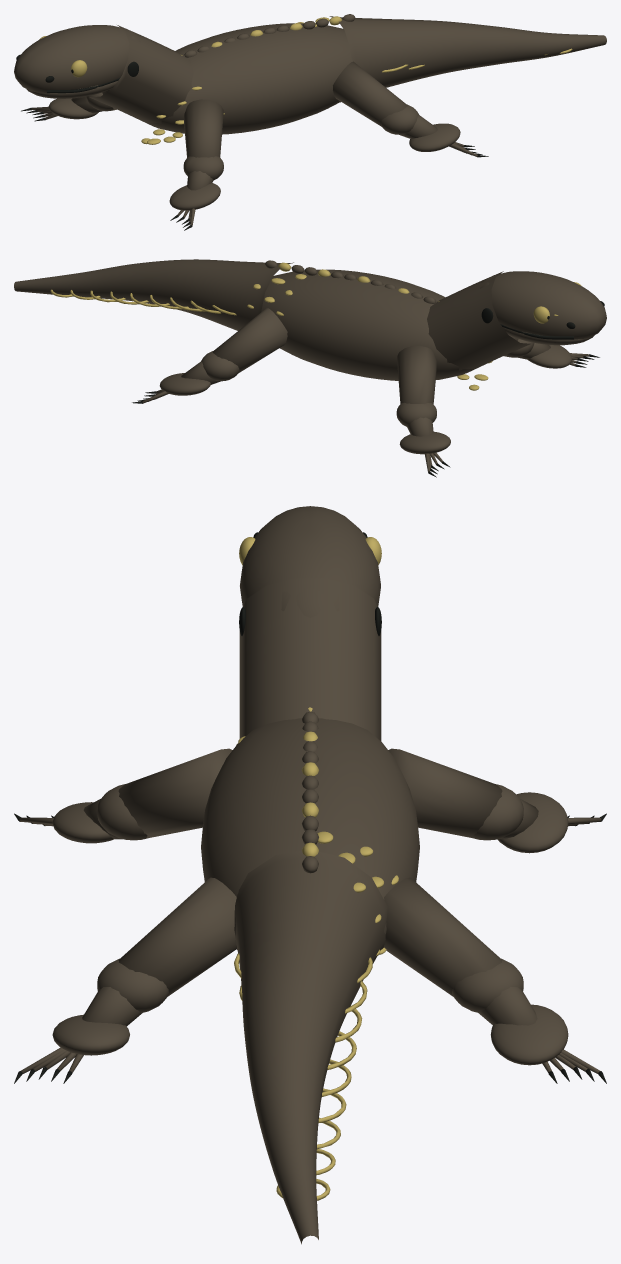
The model's file is clouded-monitor-v1.glb.
3 renders of one model, top to bottom at view 1: azimuth 30°, elevation 25°; view 2: azimuth 150°, elevation 25°; view 3: azimuth 270°, elevation 25°, orthographic. The views are drawn at different scales.
Parts seen in each view (by area): view 1: torso/long-torso, tail/continuous-tapered-tail, head/short-head, neck/raised-neck, splayed-limb-system/upper-limb-4, splayed-limb-system/upper-limb-2, splayed-limb-system/palm-2, splayed-limb-system/palm-4, splayed-limb-system/elbow-knee-4, splayed-limb-system/elbow-knee-2, splayed-limb-system/palm-1, head/lower-jaw (+2 smaller); view 2: torso/long-torso, tail/continuous-tapered-tail, head/short-head, neck/raised-neck, splayed-limb-system/upper-limb-3, splayed-limb-system/upper-limb-1, splayed-limb-system/palm-1, splayed-limb-system/palm-3, splayed-limb-system/elbow-knee-3, splayed-limb-system/elbow-knee-1, splayed-limb-system/palm-2, head/lower-jaw (+2 smaller); view 3: tail/continuous-tapered-tail, torso/long-torso, neck/raised-neck, head/short-head, splayed-limb-system/upper-limb-4, splayed-limb-system/upper-limb-3, splayed-limb-system/upper-limb-1, splayed-limb-system/upper-limb-2, splayed-limb-system/palm-3, splayed-limb-system/palm-1, splayed-limb-system/palm-4, splayed-limb-system/elbow-knee-3 (+6 smaller).
Part boxes in pixels (x1,y1,x2,y2): torso/long-torso: (147, 23, 352, 134); tail/continuous-tapered-tail: (329, 16, 606, 102); head/short-head: (14, 25, 140, 92); neck/raised-neck: (89, 25, 193, 126); splayed-limb-system/upper-limb-4: (333, 61, 407, 126); splayed-limb-system/upper-limb-2: (184, 99, 223, 157); splayed-limb-system/palm-2: (169, 183, 220, 210); splayed-limb-system/palm-4: (409, 123, 460, 151); splayed-limb-system/elbow-knee-4: (381, 104, 418, 134); splayed-limb-system/elbow-knee-2: (183, 156, 223, 180); splayed-limb-system/palm-1: (48, 98, 98, 119); head/lower-jaw: (26, 81, 117, 98); torso/long-torso: (261, 269, 473, 380); tail/continuous-tapered-tail: (14, 259, 293, 330); head/short-head: (480, 271, 606, 339); neck/raised-neck: (427, 271, 530, 373); splayed-limb-system/upper-limb-3: (213, 308, 287, 372); splayed-limb-system/upper-limb-1: (397, 346, 436, 404); splayed-limb-system/palm-1: (399, 431, 450, 454); splayed-limb-system/palm-3: (159, 373, 210, 395); splayed-limb-system/elbow-knee-3: (201, 351, 239, 381); splayed-limb-system/elbow-knee-1: (396, 402, 436, 426); splayed-limb-system/palm-2: (528, 345, 571, 368); head/lower-jaw: (503, 327, 594, 345); tail/continuous-tapered-tail: (235, 851, 387, 1244); torso/long-torso: (201, 718, 419, 955); neck/raised-neck: (239, 578, 381, 741); head/short-head: (240, 506, 380, 617); splayed-limb-system/upper-limb-4: (118, 877, 236, 996); splayed-limb-system/upper-limb-3: (384, 877, 502, 996); splayed-limb-system/upper-limb-1: (388, 748, 502, 837); splayed-limb-system/upper-limb-2: (118, 748, 232, 837); splayed-limb-system/palm-3: (490, 1004, 568, 1065); splayed-limb-system/palm-1: (497, 792, 568, 853); splayed-limb-system/palm-4: (52, 1014, 129, 1055); splayed-limb-system/elbow-knee-3: (452, 958, 523, 1012).
Size of the model in its own units: 3.49 by 0.823 by 1.68.
